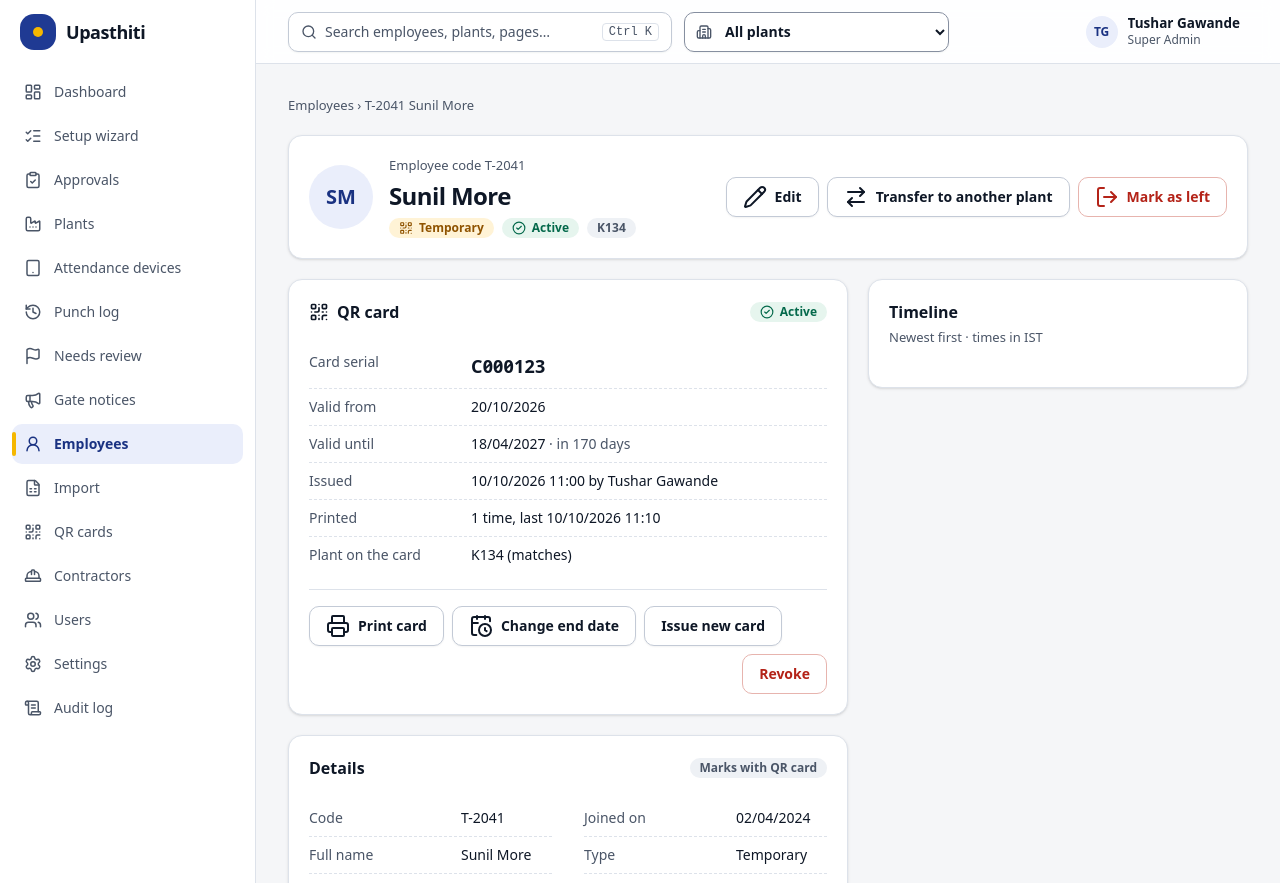
Test: issue dialog › warns that the old card stops working when it is replaced
The image size is (1280, 883).
Click the button "Issue new card" at (713, 626), box 644,606 -> 782,646
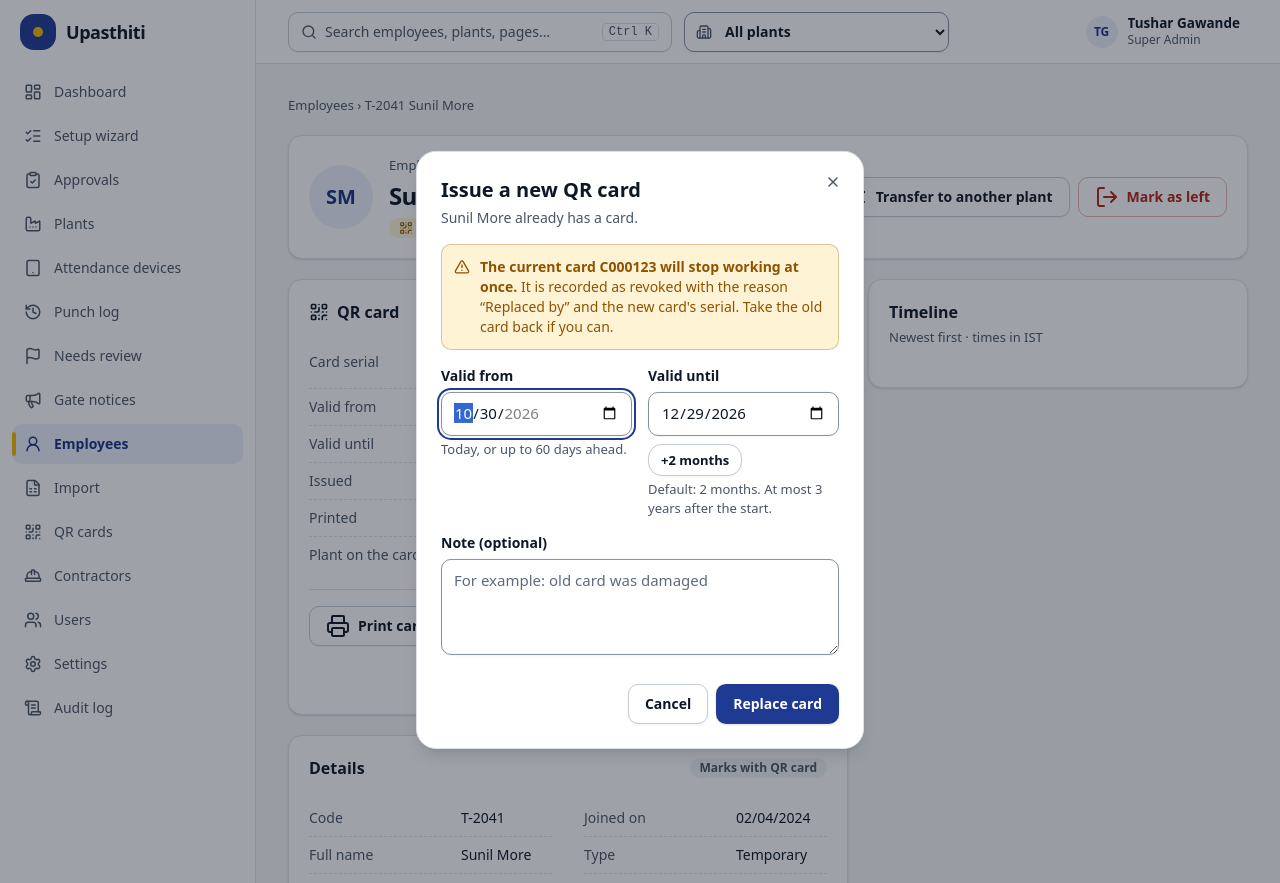
Now the text "The current card C000123 will stop working at once." is shown, box 480,257 -> 799,296
Now the button "Replace card" is shown, box 716,684 -> 839,724
